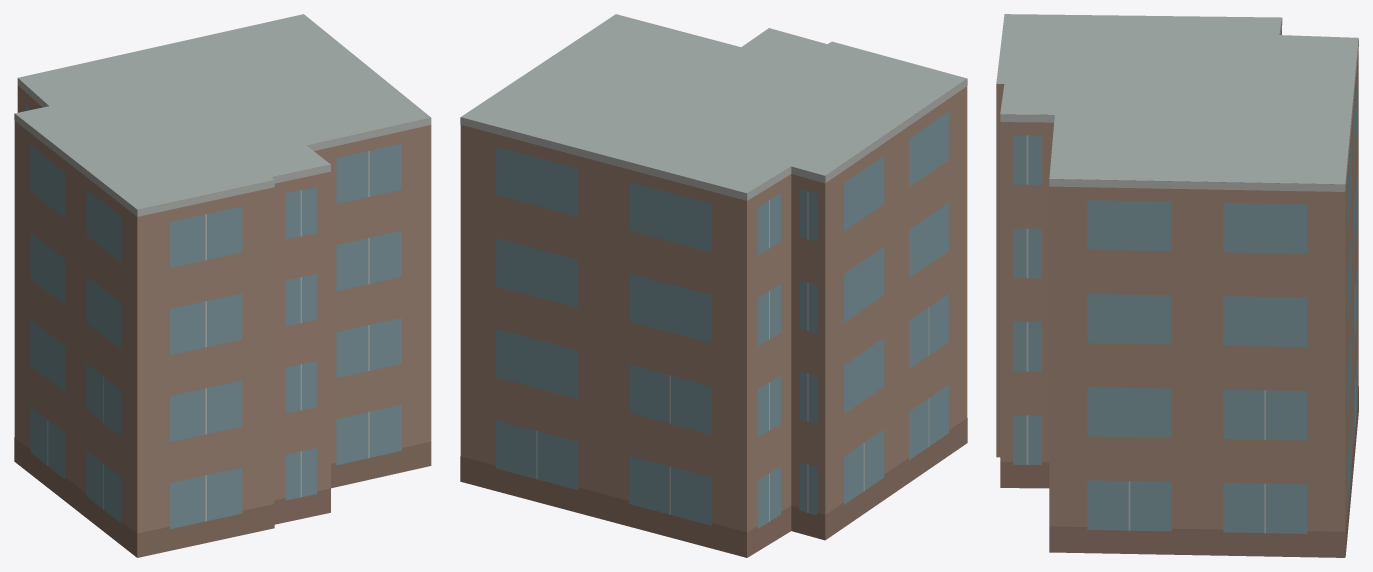
The model's file is survey-upis-32653442.glb.
3 views of the same model, side by side, from view 1: azimuth 30°, elevation 25°; view 2: azimuth 150°, elevation 25°; view 3: azimuth 270°, elevation 25° (orthographic). The views are drawn at different scales.
Visible parts, largest first — view 1: survey-upis-32653442.tmp; view 2: survey-upis-32653442.tmp; view 3: survey-upis-32653442.tmp.
Part boxes in pixels (x1,y1,x2,y2): survey-upis-32653442.tmp: (14, 14, 431, 557); survey-upis-32653442.tmp: (460, 14, 967, 557); survey-upis-32653442.tmp: (996, 14, 1358, 557).
Bounding box in the file's own units: 11.55 × 11.8 × 10.39.
